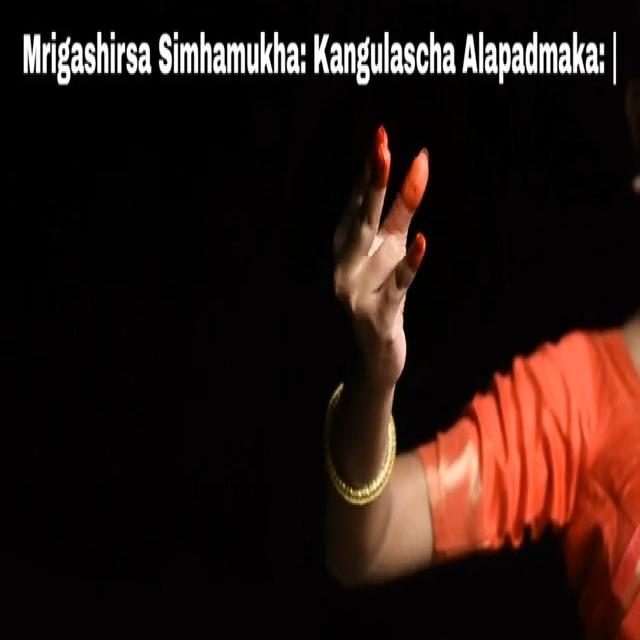Kangula: (326, 121, 447, 400)
bangle: (310, 394, 418, 517)
text: (12, 26, 624, 100)
